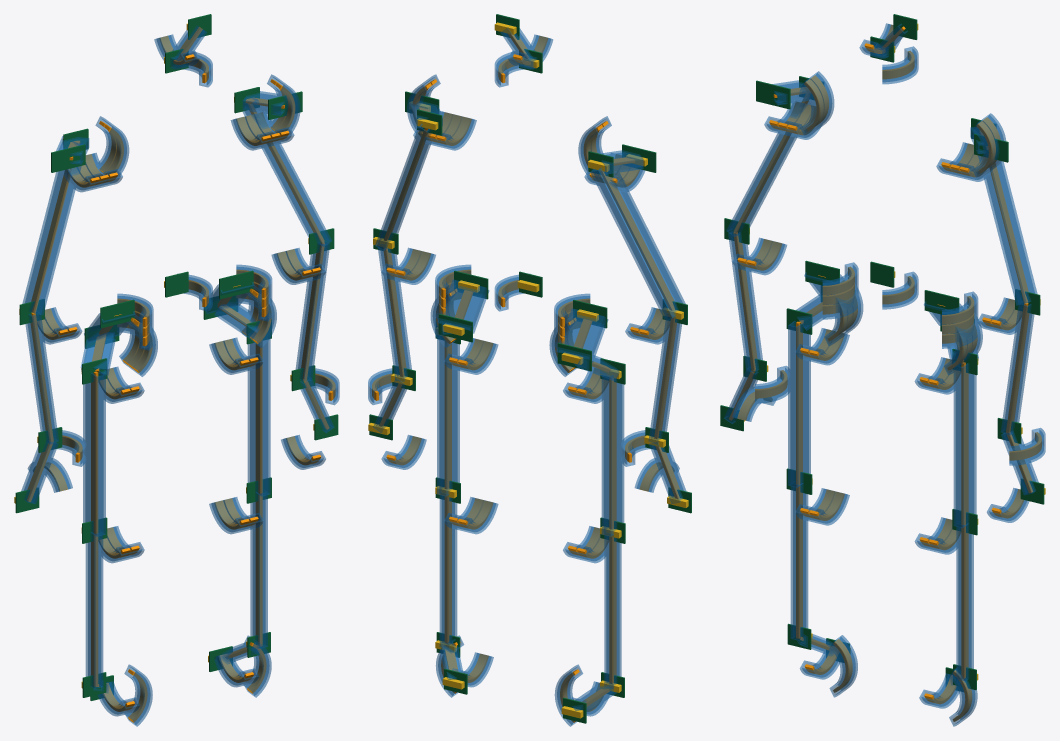
Rendered from HR-30_articulated_power_harness_candidate.glb.
The picture shows the model from 3 angles, left to right: view 1: azimuth 30°, elevation 25°; view 2: azimuth 150°, elevation 25°; view 3: azimuth 330°, elevation 25°; orthographic projection.
Parts seen in each view (by area): view 1: GD-R_KNEE_PITCH_LINK_GUARD, GD-L_KNEE_PITCH_LINK_GUARD, GD-R_ELBOW_PITCH_LINK_GUARD, GD-R_ANKLE_PITCH_LINK_GUARD, GD-L_ANKLE_PITCH_LINK_GUARD, GD-L_ELBOW_PITCH_LINK_GUARD, GD-L_WRIST_ROTATION_LINK_GUARD, GD-R_WRIST_ROTATION_LINK_GUARD, GD-L_SHOULDER_PITCH_FLEX_GUARD, APH-R_KNEE_PITCH-C1_LINK_SPAN, GD-R_HIP_ROLL_FLEX_GUARD, GD-R_SHOULDER_ROLL_FLEX_GUARD (+41 smaller); view 2: GD-R_ELBOW_PITCH_LINK_GUARD, GD-R_KNEE_PITCH_LINK_GUARD, GD-L_KNEE_PITCH_LINK_GUARD, GD-L_ANKLE_PITCH_LINK_GUARD, GD-R_ANKLE_PITCH_LINK_GUARD, GD-L_WRIST_ROTATION_LINK_GUARD, GD-L_ELBOW_PITCH_LINK_GUARD, GD-R_WRIST_ROTATION_LINK_GUARD, GD-R_HIP_ROLL_LINK_GUARD, GD-L_HIP_ROLL_LINK_GUARD, APH-R_ELBOW_PITCH-C1_LINK_SPAN, GD-L_SHOULDER_PITCH_FLEX_GUARD (+36 smaller); view 3: GD-L_KNEE_PITCH_LINK_GUARD, GD-R_KNEE_PITCH_LINK_GUARD, GD-L_ELBOW_PITCH_LINK_GUARD, GD-R_ANKLE_PITCH_LINK_GUARD, GD-L_ANKLE_PITCH_LINK_GUARD, GD-R_ELBOW_PITCH_LINK_GUARD, GD-R_WRIST_ROTATION_LINK_GUARD, GD-L_WRIST_ROTATION_LINK_GUARD, GD-R_HIP_YAW_FLEX_GUARD, GD-L_HIP_YAW_FLEX_GUARD, GD-R_SHOULDER_ROLL_FLEX_GUARD, GD-L_SHOULDER_ROLL_FLEX_GUARD (+39 smaller).
Boxes of the visible parts, bbox=[...] form: GD-R_KNEE_PITCH_LINK_GUARD: bbox=[83, 371, 105, 536]; GD-L_KNEE_PITCH_LINK_GUARD: bbox=[247, 335, 270, 496]; GD-R_ELBOW_PITCH_LINK_GUARD: bbox=[22, 142, 86, 315]; GD-R_ANKLE_PITCH_LINK_GUARD: bbox=[85, 531, 103, 688]; GD-L_ANKLE_PITCH_LINK_GUARD: bbox=[250, 491, 267, 648]; GD-L_ELBOW_PITCH_LINK_GUARD: bbox=[243, 98, 331, 246]; GD-L_WRIST_ROTATION_LINK_GUARD: bbox=[295, 242, 330, 381]; GD-R_WRIST_ROTATION_LINK_GUARD: bbox=[25, 313, 58, 444]; GD-L_SHOULDER_PITCH_FLEX_GUARD: bbox=[230, 112, 294, 150]; APH-R_KNEE_PITCH-C1_LINK_SPAN: bbox=[91, 371, 98, 532]; GD-R_HIP_ROLL_FLEX_GUARD: bbox=[119, 315, 157, 376]; GD-R_SHOULDER_ROLL_FLEX_GUARD: bbox=[95, 116, 129, 176]; GD-R_ELBOW_PITCH_LINK_GUARD: bbox=[590, 167, 685, 319]; GD-R_KNEE_PITCH_LINK_GUARD: bbox=[601, 375, 624, 536]; GD-L_KNEE_PITCH_LINK_GUARD: bbox=[437, 337, 459, 496]; GD-L_ANKLE_PITCH_LINK_GUARD: bbox=[439, 494, 457, 648]; GD-R_ANKLE_PITCH_LINK_GUARD: bbox=[604, 535, 621, 688]; GD-L_WRIST_ROTATION_LINK_GUARD: bbox=[378, 245, 411, 381]; GD-L_ELBOW_PITCH_LINK_GUARD: bbox=[375, 124, 431, 250]; GD-R_WRIST_ROTATION_LINK_GUARD: bbox=[648, 316, 681, 444]; GD-R_HIP_ROLL_LINK_GUARD: bbox=[556, 308, 608, 362]; GD-L_HIP_ROLL_LINK_GUARD: bbox=[438, 279, 489, 333]; APH-R_ELBOW_PITCH-C1_LINK_SPAN: bbox=[600, 170, 674, 310]; GD-L_SHOULDER_PITCH_FLEX_GUARD: bbox=[413, 111, 476, 150]; GD-L_KNEE_PITCH_LINK_GUARD: bbox=[953, 363, 976, 527]; GD-R_KNEE_PITCH_LINK_GUARD: bbox=[788, 321, 810, 487]; GD-L_ELBOW_PITCH_LINK_GUARD: bbox=[973, 134, 1037, 305]; GD-R_ANKLE_PITCH_LINK_GUARD: bbox=[790, 483, 808, 640]; GD-L_ANKLE_PITCH_LINK_GUARD: bbox=[956, 523, 973, 681]; GD-R_ELBOW_PITCH_LINK_GUARD: bbox=[726, 89, 812, 236]; GD-R_WRIST_ROTATION_LINK_GUARD: bbox=[728, 232, 762, 372]; GD-L_WRIST_ROTATION_LINK_GUARD: bbox=[1000, 303, 1034, 435]; GD-R_HIP_YAW_FLEX_GUARD: bbox=[822, 262, 858, 319]; GD-L_HIP_YAW_FLEX_GUARD: bbox=[942, 291, 978, 348]; GD-R_SHOULDER_ROLL_FLEX_GUARD: bbox=[801, 71, 834, 137]; GD-L_SHOULDER_ROLL_FLEX_GUARD: bbox=[973, 113, 1006, 179].
Bounding box in the file's own units: 338 × 693 × 68.95.
